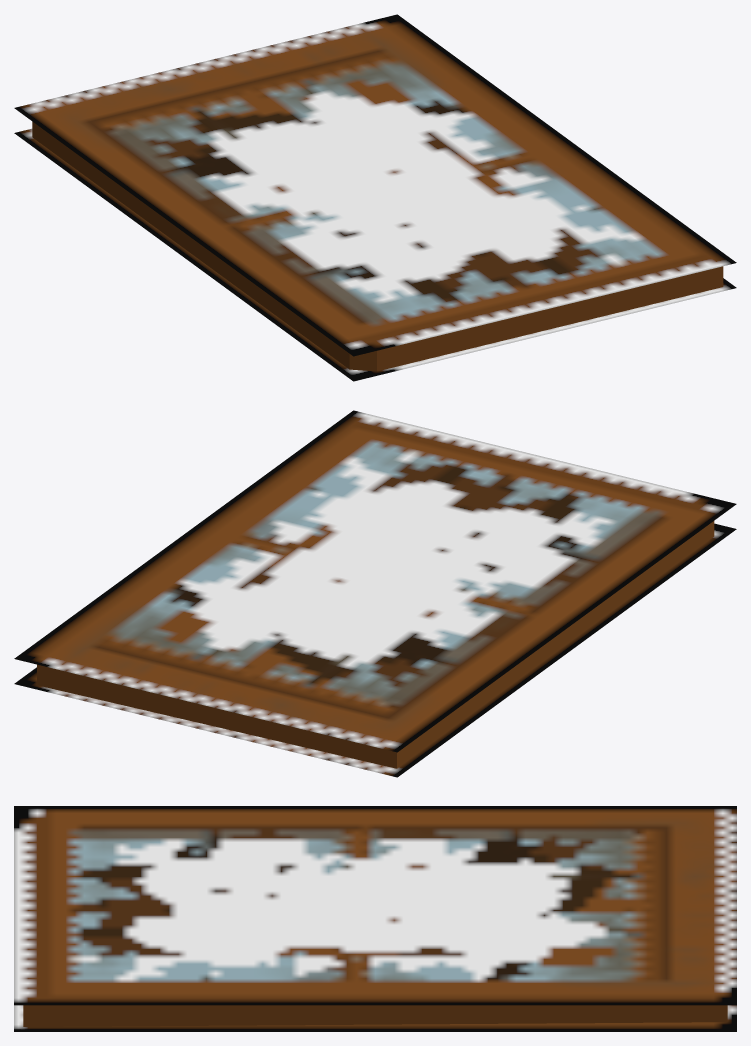
File: pz_native_fixtures_windows_01_21_frame.obj
The picture shows the model from 3 angles, top to bottom: view 1: azimuth 30°, elevation 25°; view 2: azimuth 150°, elevation 25°; view 3: azimuth 270°, elevation 25°; orthographic projection. The views are drawn at different scales.
Visible parts, largest first — view 1: pz_native_fixtures_windows_01_21_frame; view 2: pz_native_fixtures_windows_01_21_frame; view 3: pz_native_fixtures_windows_01_21_frame.
Boxes of the visible parts, left/top/right/bottom form: pz_native_fixtures_windows_01_21_frame: left=14, top=14, right=736, bottom=381; pz_native_fixtures_windows_01_21_frame: left=14, top=410, right=736, bottom=777; pz_native_fixtures_windows_01_21_frame: left=14, top=806, right=736, bottom=1031.
Size of the model in its own units: 0.6406 by 0.04 by 0.9823.
Materials: 1 (1 with a texture image).
